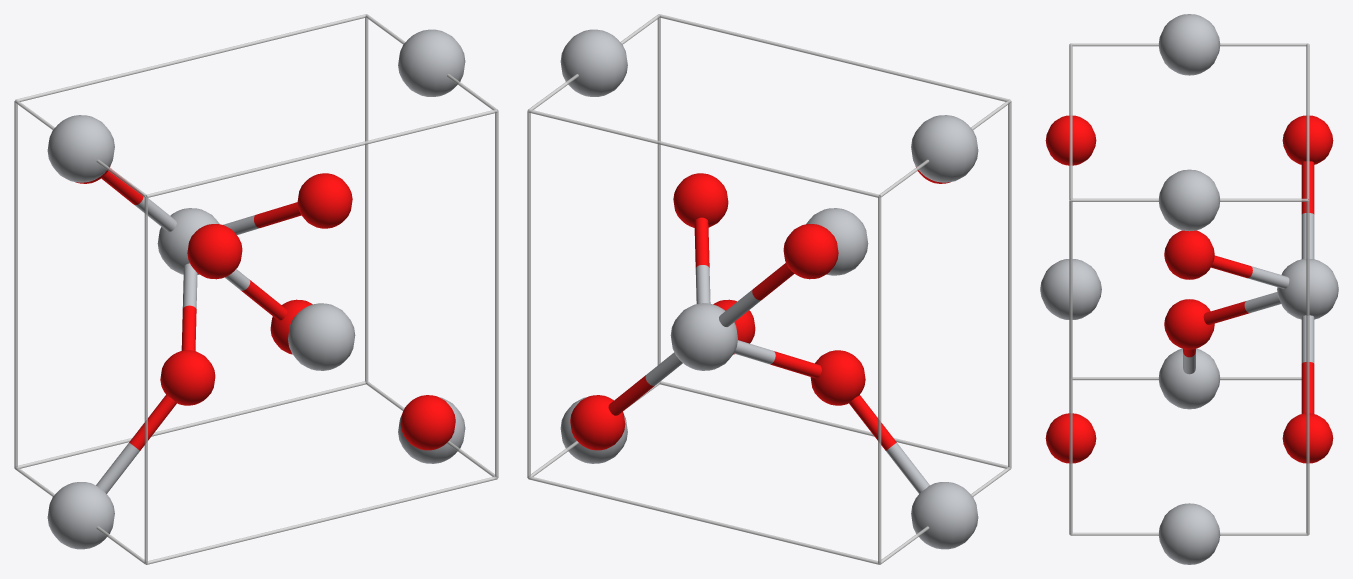
The model's file is rutile-scientific-gloss.glb.
3 views of the same model, side by side, from view 1: azimuth 30°, elevation 25°; view 2: azimuth 150°, elevation 25°; view 3: azimuth 270°, elevation 25° (orthographic). The views are drawn at different scales.
Bounding box in the file's own units: 5.37 × 5.37 × 3.73.
